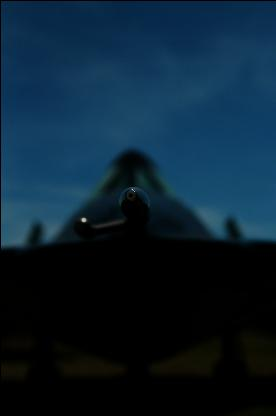Rafale: (1, 145, 275, 415)
